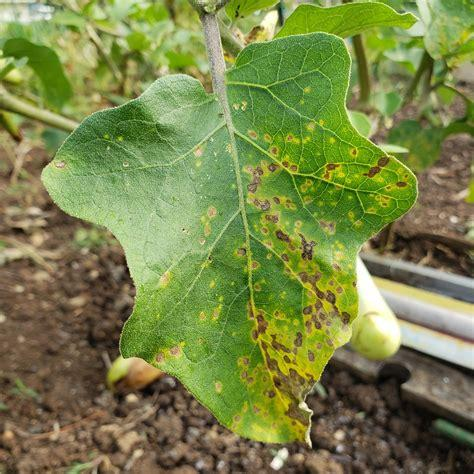black-spot: (242, 154, 294, 245)
